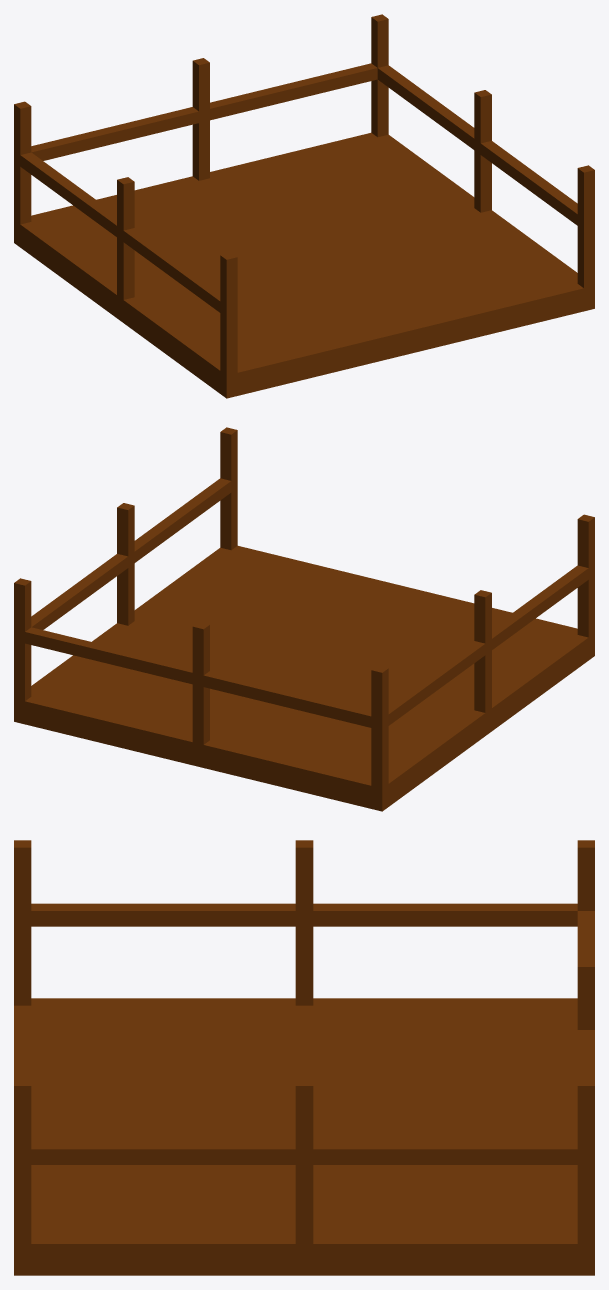
The model's file is storage_resources.dae.
3 renders of one model, top to bottom at view 1: azimuth 30°, elevation 25°; view 2: azimuth 150°, elevation 25°; view 3: azimuth 270°, elevation 25°, orthographic. The views are drawn at different scales.
Parts seen in each view (by area): view 1: SketchUp (×2); view 2: SketchUp (×2); view 3: SketchUp (×2).
Part boxes in pixels (left/top/right/bottom): SketchUp (×2): left=14, top=14, right=594, bottom=398; SketchUp (×2): left=14, top=427, right=594, bottom=811; SketchUp (×2): left=14, top=840, right=594, bottom=1275.
Size of the model in its own units: 197 by 197 by 70.87.
